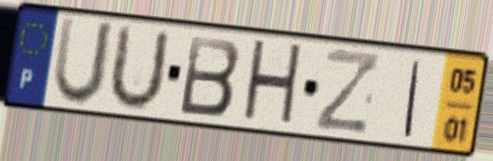B: (177, 32, 244, 120)
H: (238, 36, 306, 132)
I: (400, 57, 425, 141)
U: (48, 14, 119, 111), (103, 21, 173, 114)
Z: (311, 45, 384, 137)
